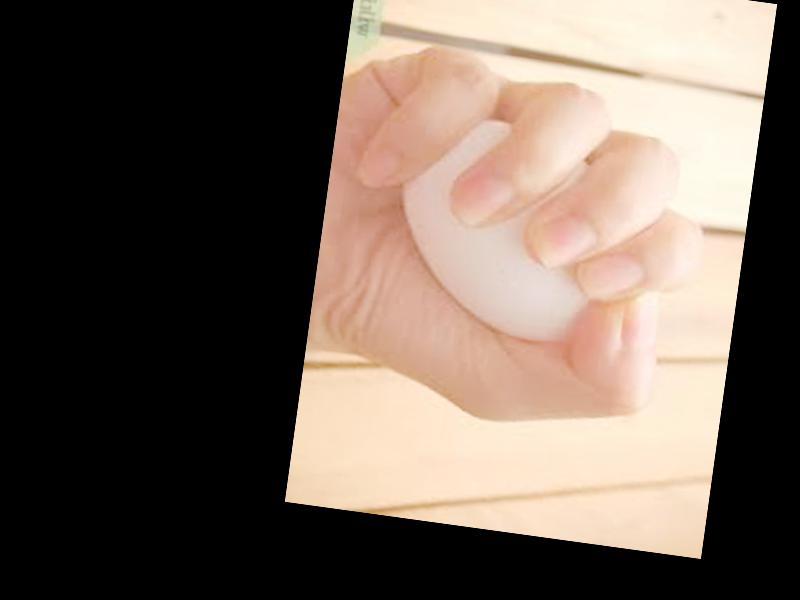Eggs: (385, 106, 633, 350)
